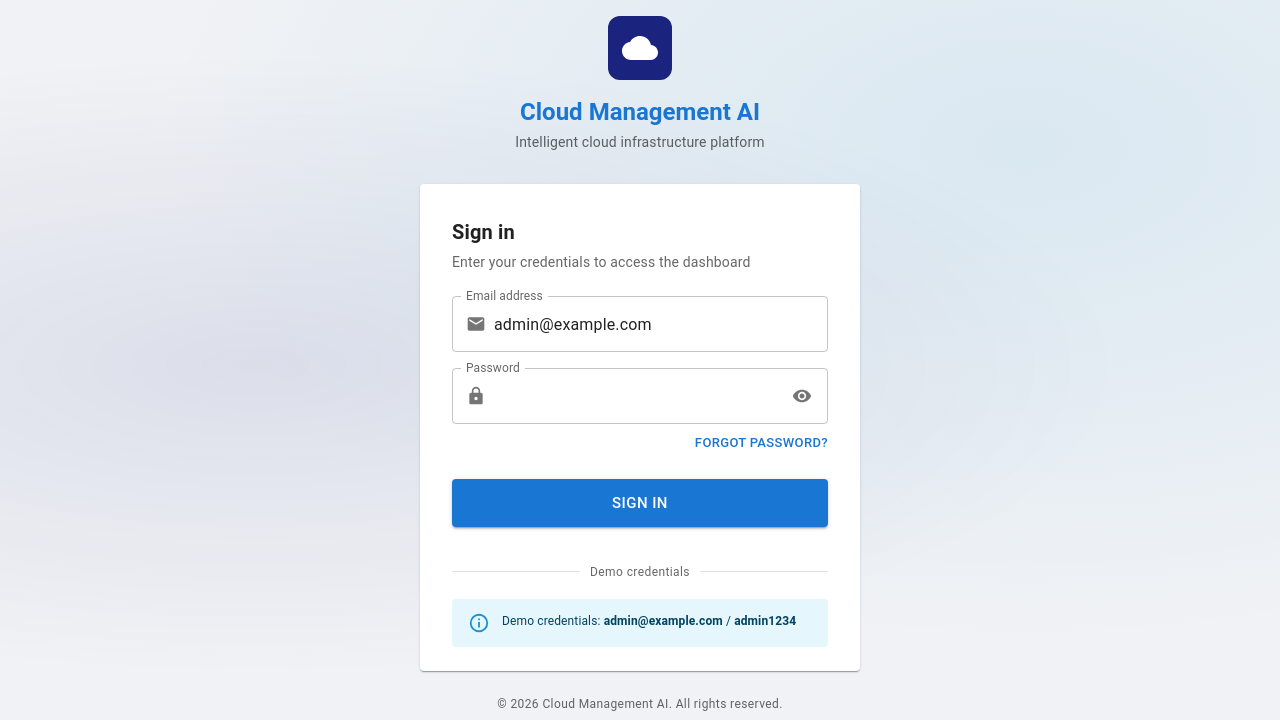
Test: Login page › shows error message on failed login
The image size is (1280, 720).
Replace the text in the field labelled "Email address" with "wrong@example.com": (661, 324) x1=494 y1=296 x2=828 y2=352
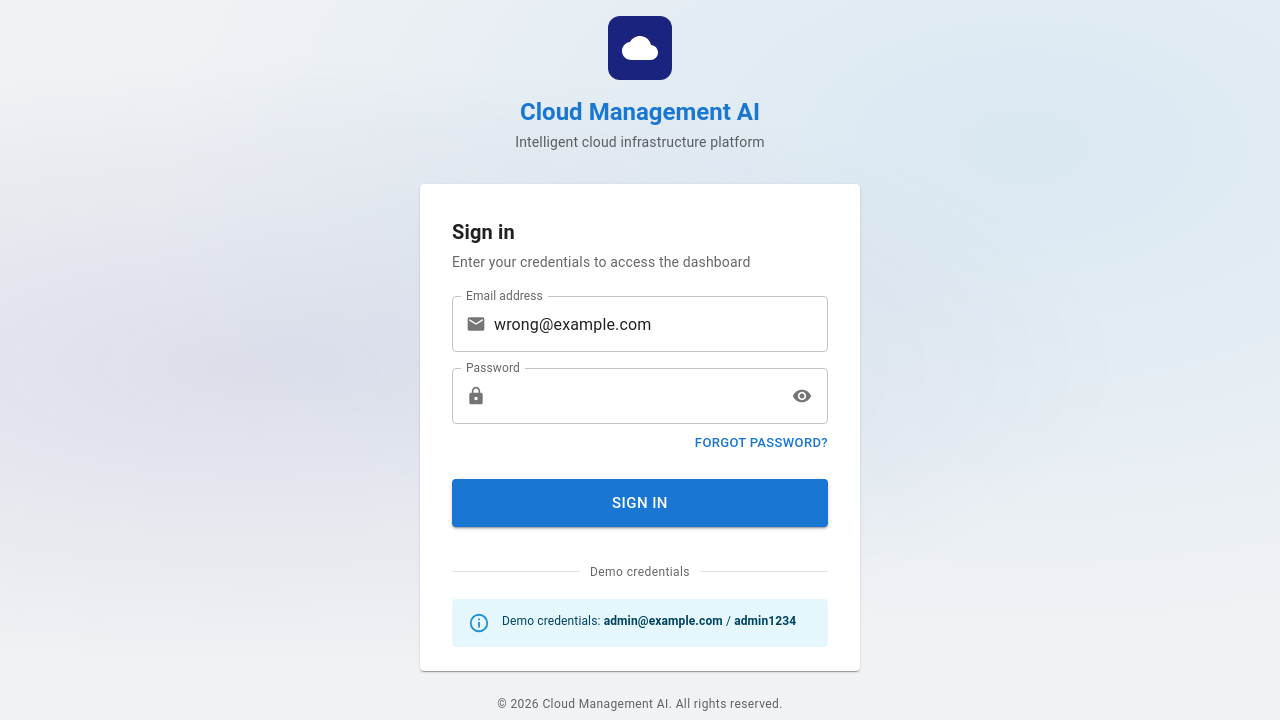
In the password field labelled "Password": (636, 396) x1=494 y1=368 x2=779 y2=424, type "badpass"
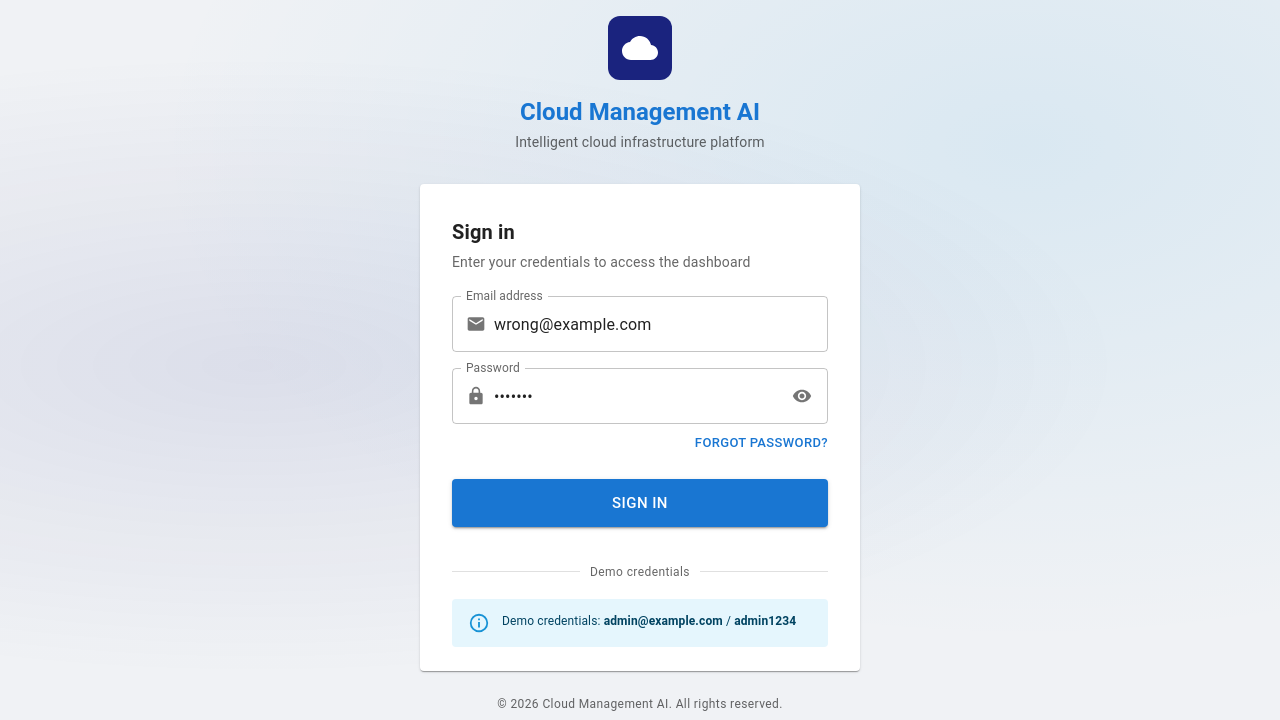
Click the button "Sign in": (640, 503) x1=452 y1=479 x2=828 y2=527
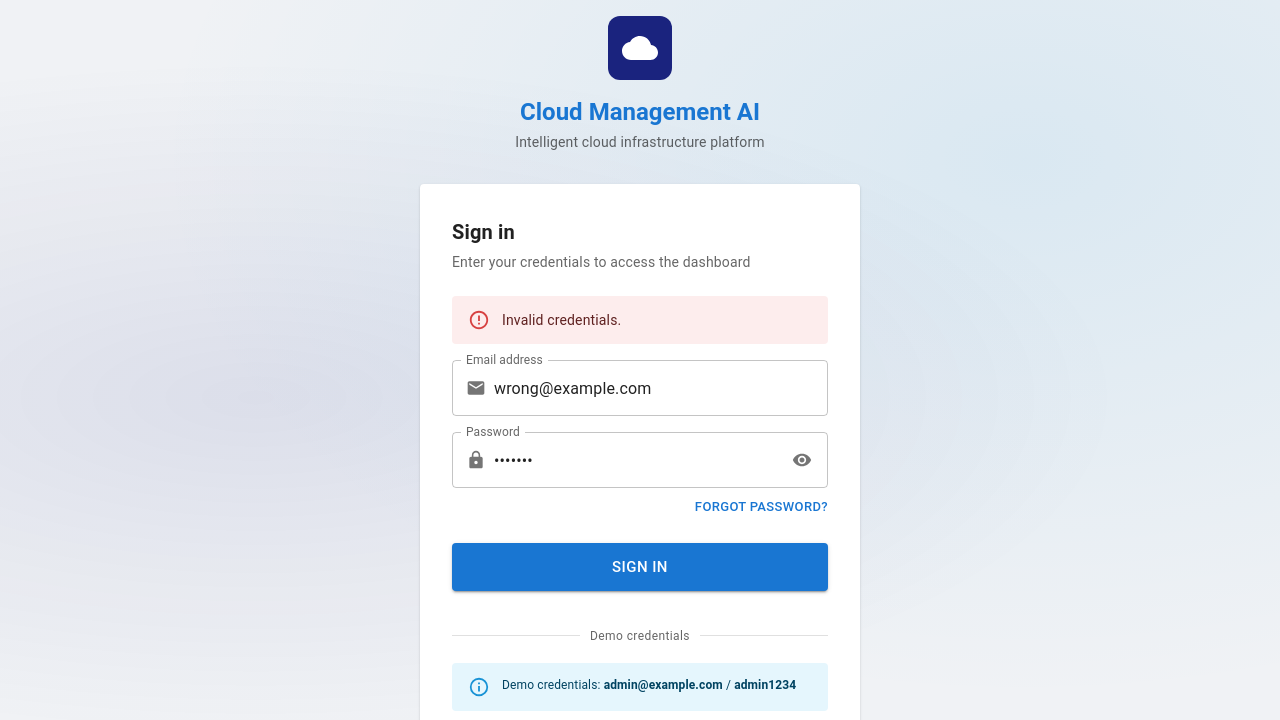
Expected: the message "Invalid credentials." is shown, x1=452 y1=296 x2=828 y2=344
